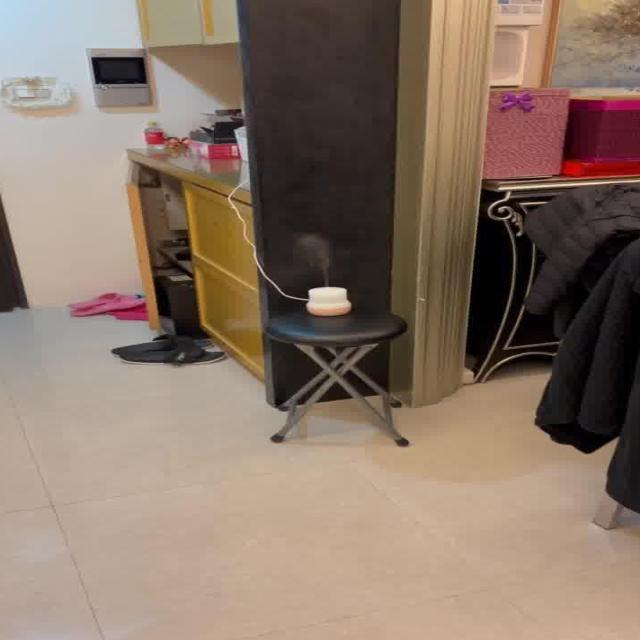fire: (294, 230, 338, 283)
